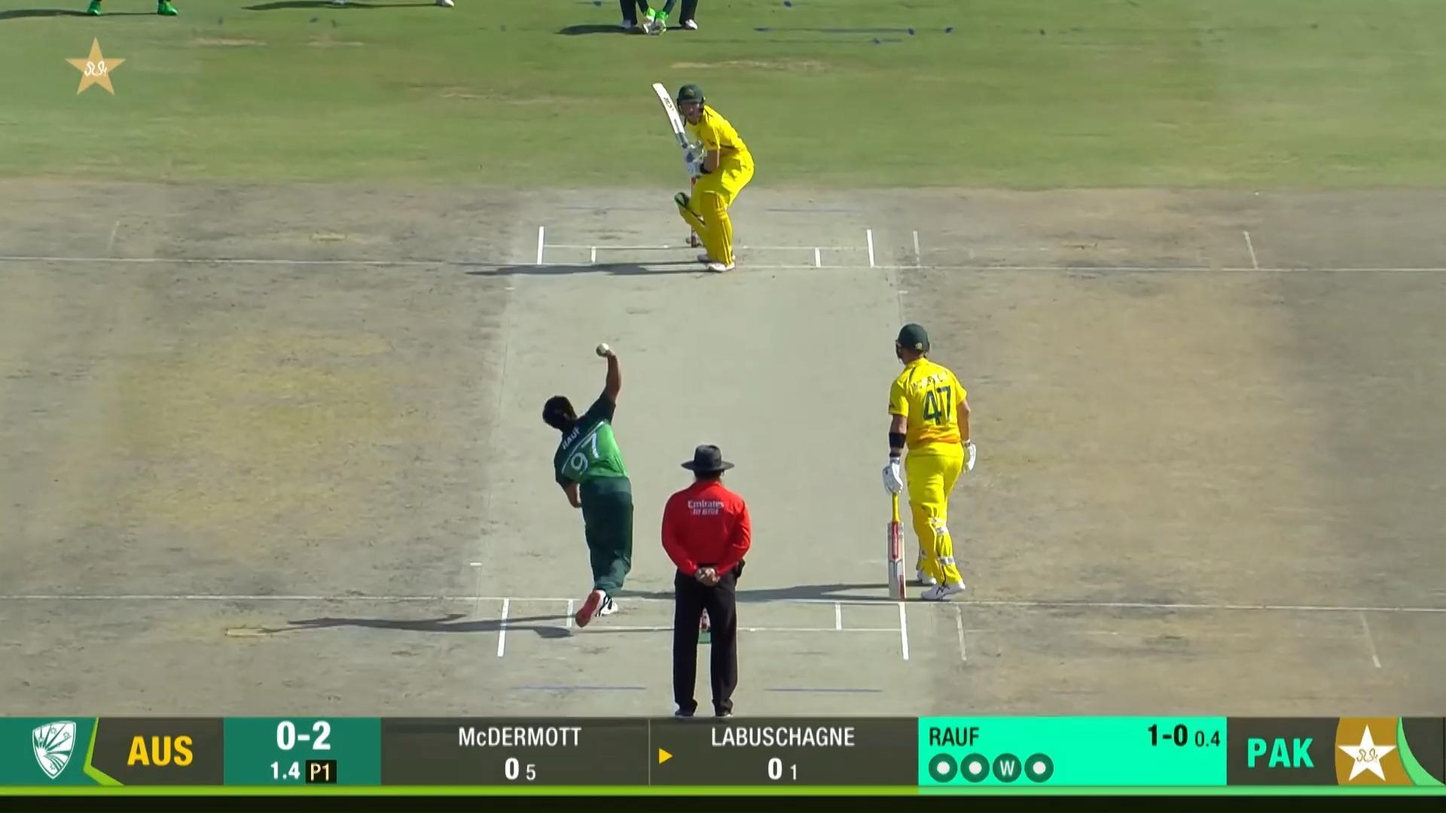BM 1: (652, 83, 755, 273)
BO: (540, 348, 638, 632)
